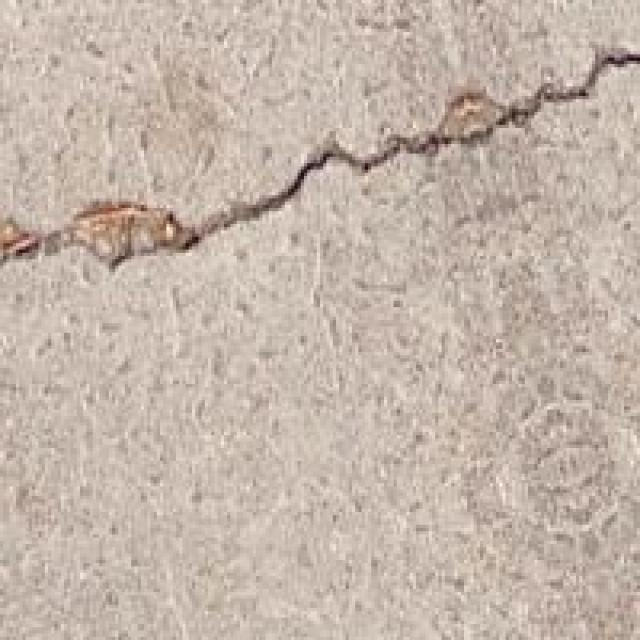Crack: (10, 4, 637, 327)
